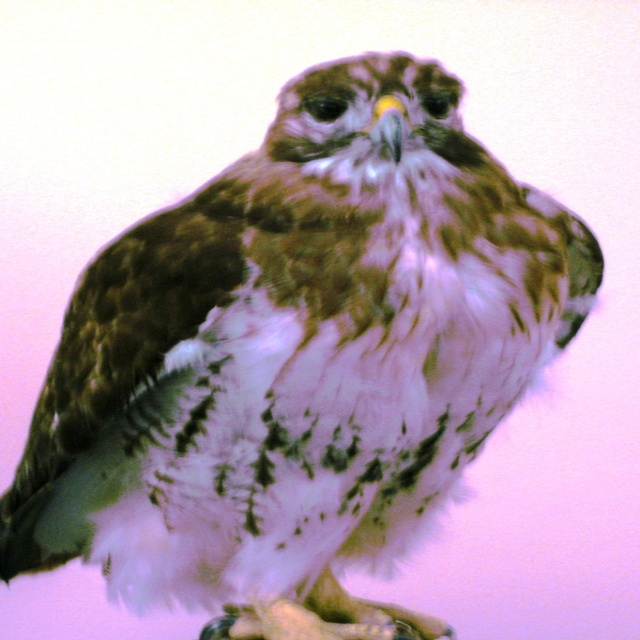Owl: (0, 48, 612, 640)
